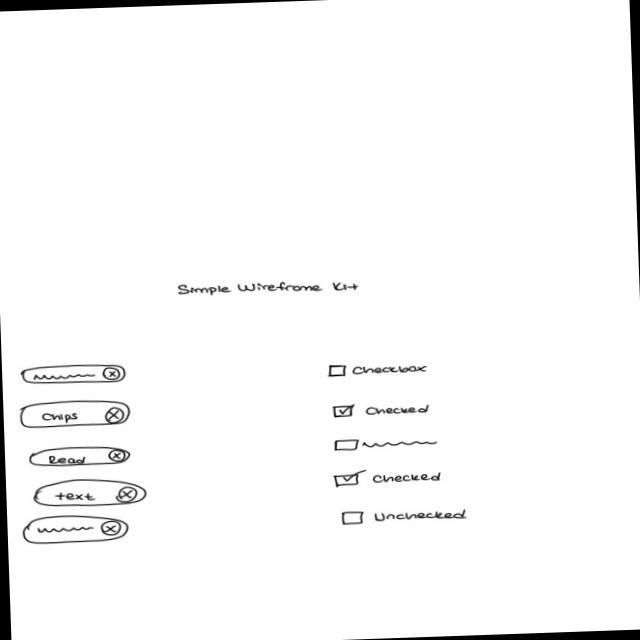checkbox: (341, 505, 469, 526), (332, 467, 445, 490), (334, 435, 440, 455), (326, 360, 429, 380), (331, 401, 433, 420)
label: (178, 278, 362, 300)
